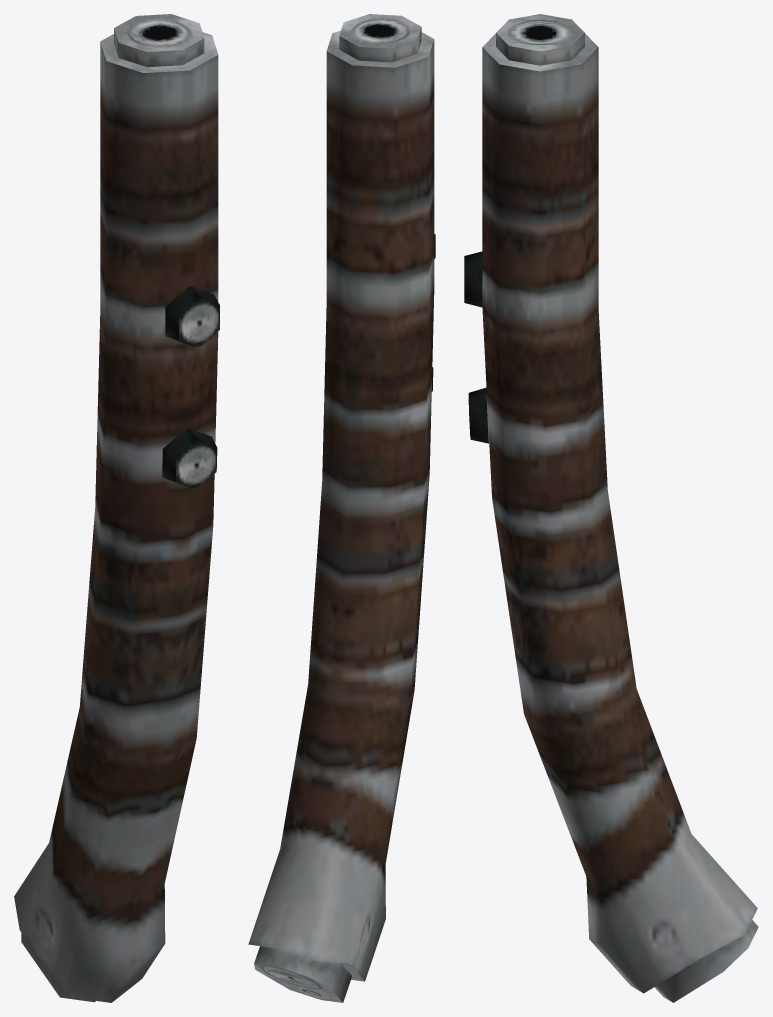
File: wp_mle_2h_sword_lightsaber_leather_l0.fbx
The picture shows the model from 3 angles, left to right: view 1: azimuth 30°, elevation 25°; view 2: azimuth 150°, elevation 25°; view 3: azimuth 270°, elevation 25°; orthographic projection. The views are drawn at different scales.
Visible parts, largest first — view 1: mesh_node; view 2: mesh_node; view 3: mesh_node.
Boxes of the visible parts, x1,y1,x2,y2 form: mesh_node: (14,14,219,1002); mesh_node: (248,14,435,1002); mesh_node: (464,14,758,1002).
Bounding box in the file's own units: 0.0312 × 0.2863 × 0.0793.
1 material, 1 textured.
